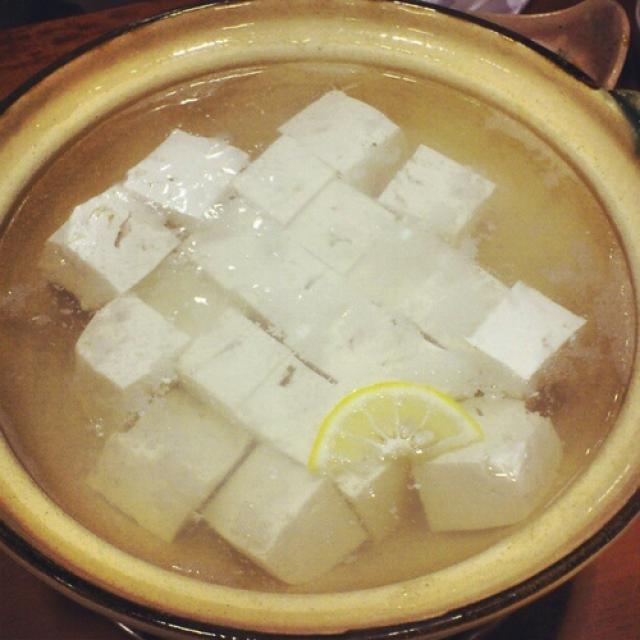豆腐料理: (13, 37, 621, 611)
